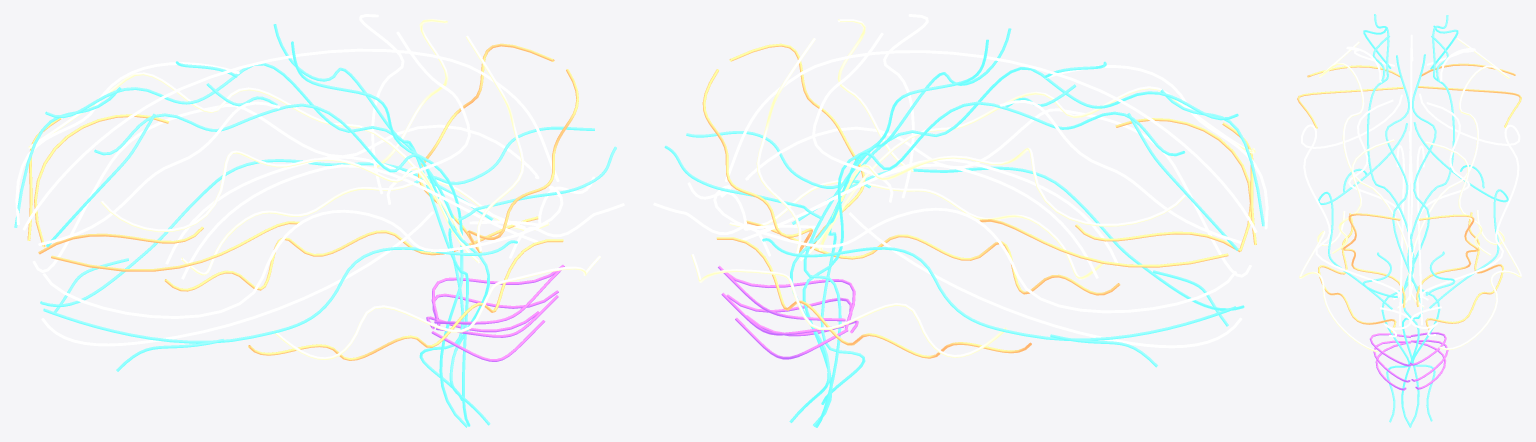
The model's file is neuronet (emission).gltf.
The picture shows the model from 3 angles, left to right: view 1: azimuth 30°, elevation 25°; view 2: azimuth 150°, elevation 25°; view 3: azimuth 270°, elevation 25°; orthographic projection. The views are drawn at different scales.
Visible parts, largest first — view 1: BezierCurve.045, BezierCurve.023, BezierCurve.025, BezierCurve.008, BezierCurve.007, BezierCurve.029, BezierCurve.030, BezierCurve.027, BezierCurve.024, BezierCurve.011, BezierCurve.006, BezierCurve.031 (+21 smaller); view 2: BezierCurve.045, BezierCurve.025, BezierCurve.007, BezierCurve.008, BezierCurve.023, BezierCurve.015, BezierCurve.027, BezierCurve.024, BezierCurve.030, BezierCurve.011, BezierCurve.006, BezierCurve.001 (+20 smaller); view 3: BezierCurve.025, BezierCurve.008, BezierCurve.023, BezierCurve.027, BezierCurve.007, BezierCurve.011, BezierCurve.024, BezierCurve.030, BezierCurve.045, BezierCurve.015, BezierCurve.029, BezierCurve.001 (+18 smaller).
Part boxes in pixels (x1,y1,x2,y2): BezierCurve.045: [22, 48, 559, 230]; BezierCurve.023: [42, 185, 563, 318]; BezierCurve.025: [94, 103, 490, 425]; BezierCurve.008: [45, 63, 464, 400]; BezierCurve.007: [32, 104, 539, 272]; BezierCurve.029: [43, 240, 517, 343]; BezierCurve.030: [100, 150, 480, 263]; BezierCurve.027: [291, 41, 467, 427]; BezierCurve.024: [28, 72, 465, 246]; BezierCurve.011: [273, 24, 470, 426]; BezierCurve.006: [41, 211, 433, 346]; BezierCurve.031: [273, 255, 600, 360]; BezierCurve.045: [725, 50, 1257, 232]; BezierCurve.025: [820, 67, 1238, 404]; BezierCurve.007: [713, 185, 1236, 313]; BezierCurve.008: [789, 101, 1185, 422]; BezierCurve.023: [745, 108, 1251, 277]; BezierCurve.015: [762, 238, 1236, 340]; BezierCurve.027: [803, 28, 1011, 427]; BezierCurve.024: [800, 147, 1185, 261]; BezierCurve.030: [819, 86, 1255, 250]; BezierCurve.011: [802, 39, 988, 426]; BezierCurve.006: [849, 212, 1242, 348]; BezierCurve.001: [691, 254, 1007, 357]; BezierCurve.025: [1367, 14, 1414, 422]; BezierCurve.008: [1407, 15, 1454, 421]; BezierCurve.023: [1301, 94, 1402, 299]; BezierCurve.027: [1385, 55, 1422, 425]; BezierCurve.007: [1419, 93, 1520, 300]; BezierCurve.011: [1401, 54, 1436, 427]; BezierCurve.024: [1408, 38, 1509, 307]; BezierCurve.030: [1319, 41, 1413, 308]; BezierCurve.045: [1407, 34, 1413, 300]; BezierCurve.015: [1413, 122, 1508, 308]; BezierCurve.029: [1318, 123, 1407, 309]; BezierCurve.001: [1439, 210, 1521, 350].
Bounding box in the file's own units: 9.27 × 6.62 × 4.35.
